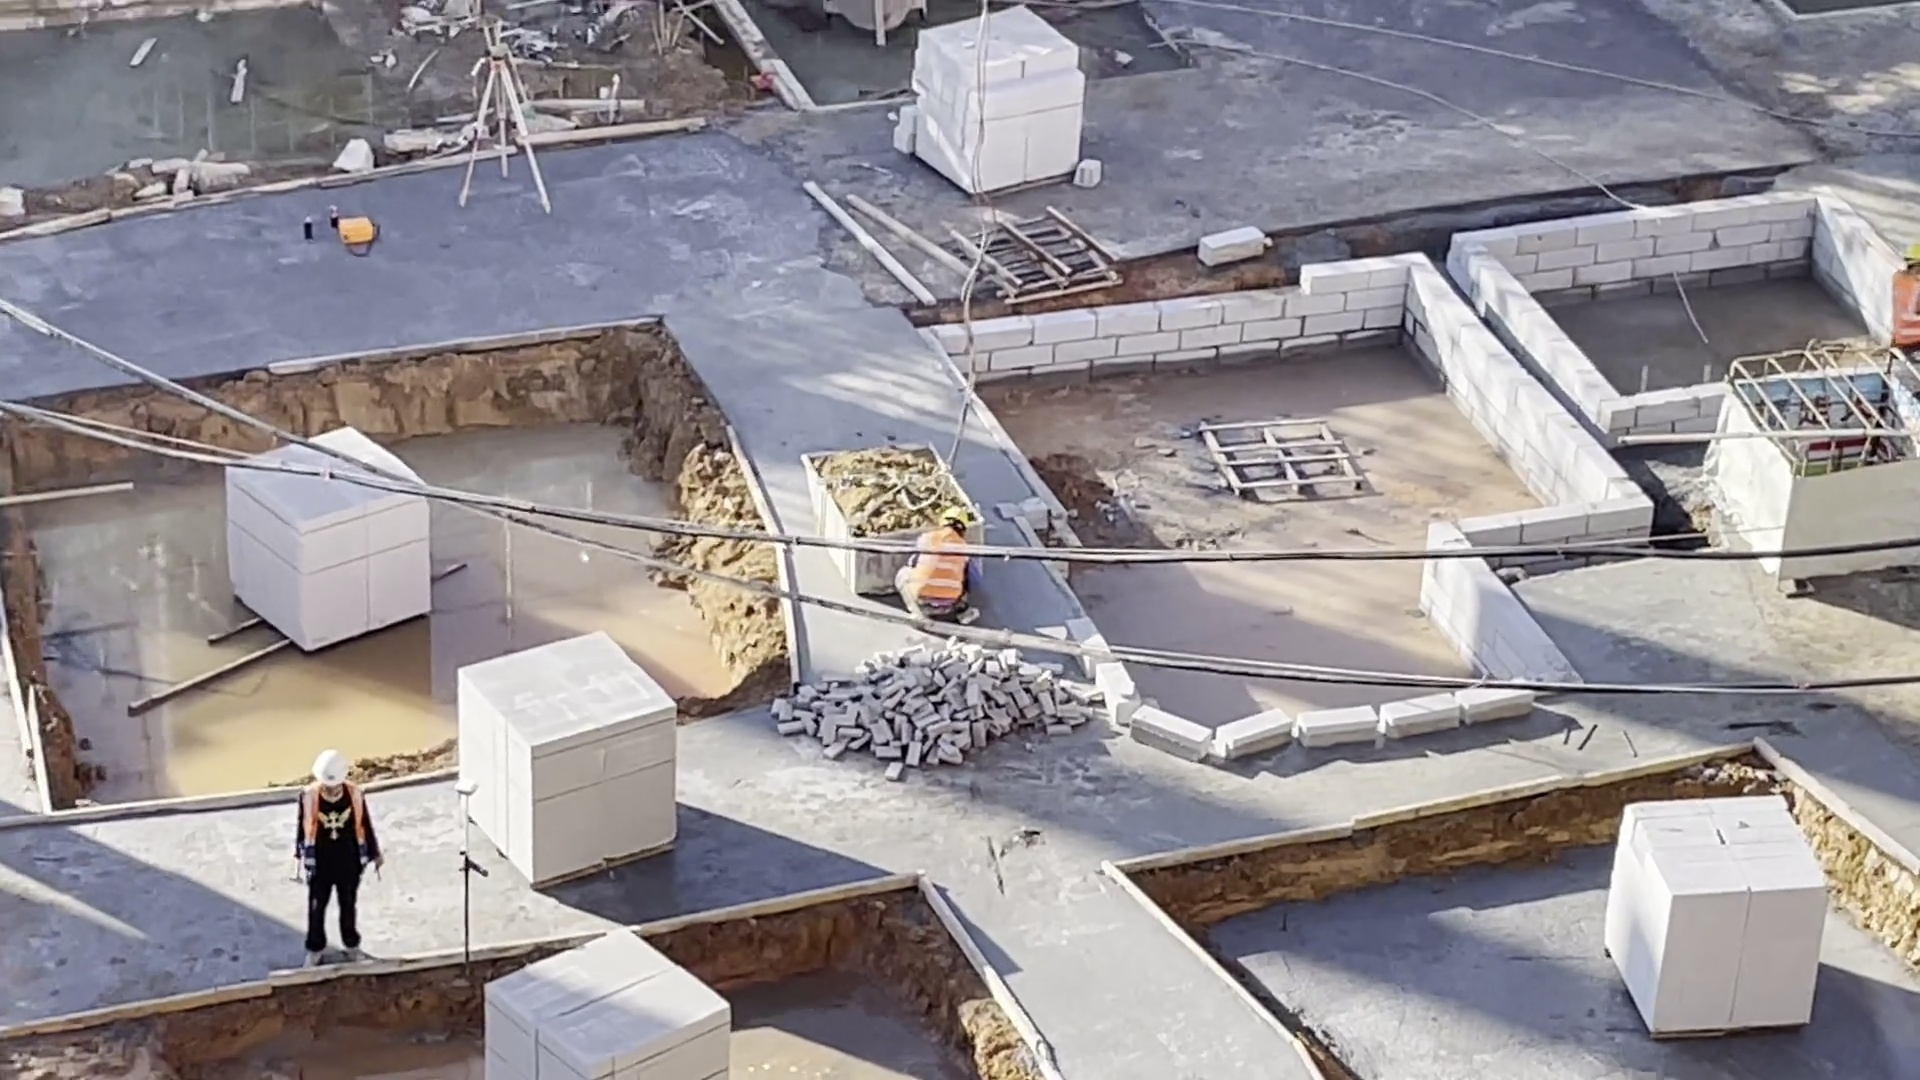brick: (452, 628, 678, 887), (1601, 785, 1828, 1035), (484, 927, 738, 1080), (899, 1, 1091, 204), (219, 500, 439, 657)
helmet: (308, 748, 354, 788), (936, 504, 973, 531), (1896, 241, 1920, 258)
hopper: (803, 442, 908, 539), (825, 1, 917, 42)
person: (289, 748, 389, 973), (892, 504, 982, 627), (1889, 241, 1920, 356)
vest: (298, 785, 370, 874), (909, 554, 972, 601), (1892, 267, 1920, 344)
